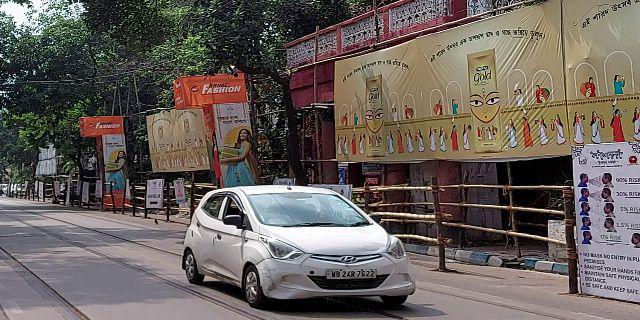Car: (178, 180, 420, 311)
